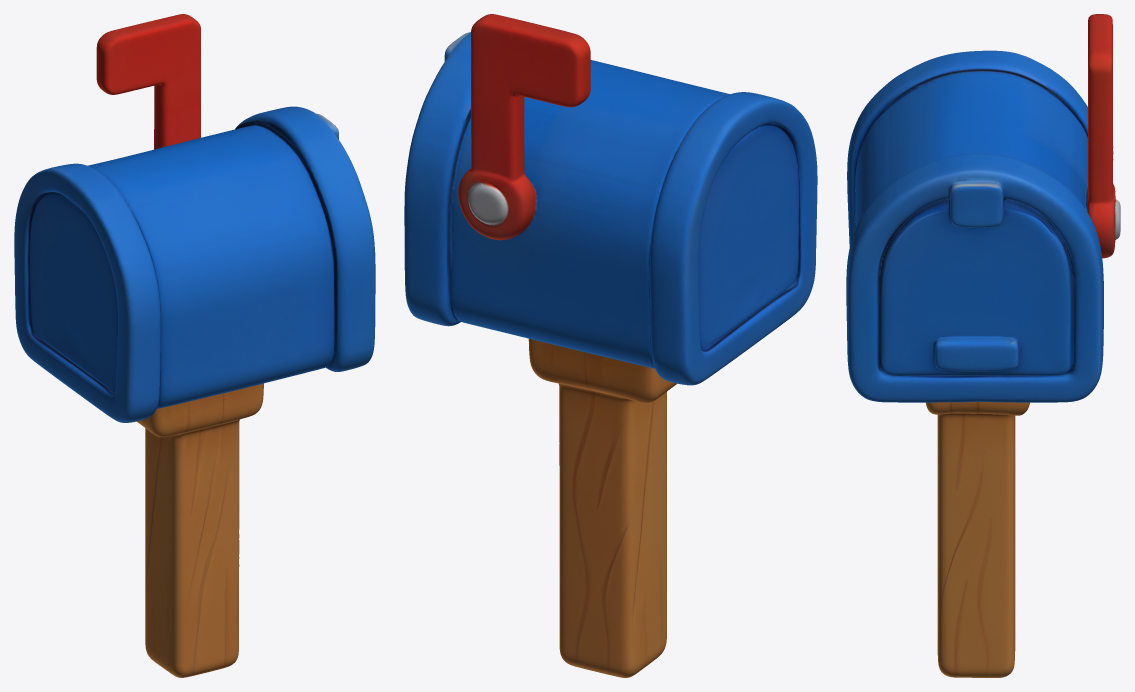
File: mailbox.glb
The picture shows the model from 3 angles, left to right: view 1: azimuth 30°, elevation 25°; view 2: azimuth 150°, elevation 25°; view 3: azimuth 270°, elevation 25°; orthographic projection. The views are drawn at different scales.
Visible parts, largest first — view 1: tripo_node_1fb501d9-b7b4-453f-b925-f01b54c5228f; view 2: tripo_node_1fb501d9-b7b4-453f-b925-f01b54c5228f; view 3: tripo_node_1fb501d9-b7b4-453f-b925-f01b54c5228f.
Part boxes in pixels (x1=…): tripo_node_1fb501d9-b7b4-453f-b925-f01b54c5228f: x1=14, y1=14, x2=375, y2=677; tripo_node_1fb501d9-b7b4-453f-b925-f01b54c5228f: x1=404, y1=14, x2=817, y2=677; tripo_node_1fb501d9-b7b4-453f-b925-f01b54c5228f: x1=846, y1=14, x2=1120, y2=677.
Size of the model in its own units: 0.4639 by 1 by 0.3884.
Materials: 1 (1 with a texture image).
